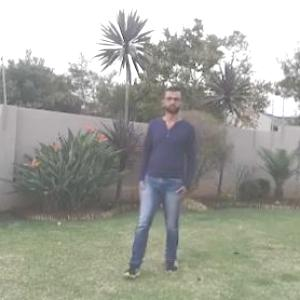follow: (144, 89, 192, 252)
